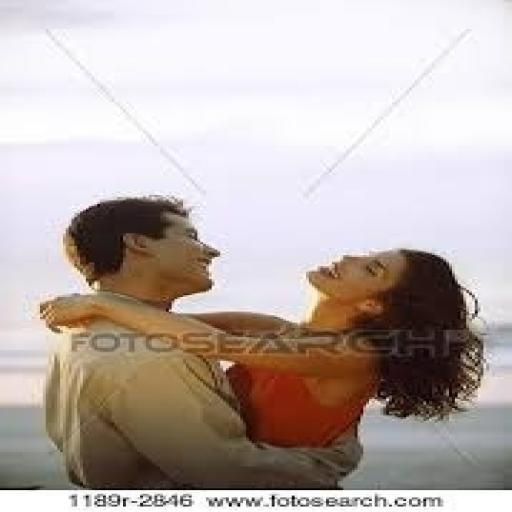hugging: (34, 193, 489, 488)
